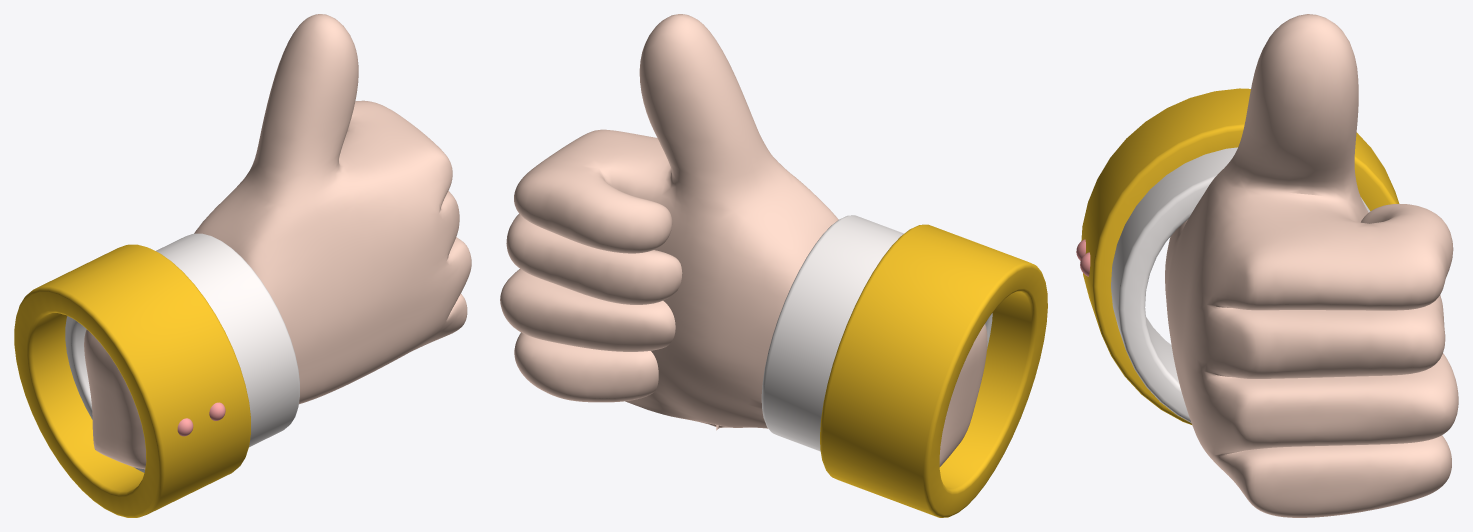
Rendered from good.glb.
3 views of the same model, side by side, from view 1: azimuth 30°, elevation 25°; view 2: azimuth 150°, elevation 25°; view 3: azimuth 270°, elevation 25° (orthographic). The views are drawn at different scales.
Parts seen in each view (by area): view 1: 立方体, 管道.1, 管道; view 2: 立方体, 管道.1, 管道; view 3: 立方体, 管道.1, 管道.
Boxes of the visible parts, x1,y1,x2,y2 form: 立方体: (84, 14, 471, 469); 管道.1: (14, 244, 250, 517); 管道: (65, 233, 299, 472); 立方体: (500, 14, 987, 466); 管道.1: (820, 224, 1047, 517); 管道: (761, 215, 992, 451); 立方体: (1165, 14, 1458, 517); 管道.1: (1081, 88, 1399, 424); 管道: (1111, 147, 1370, 422).
Bounding box in the file's own units: 10.48 × 10.28 × 6.66.
